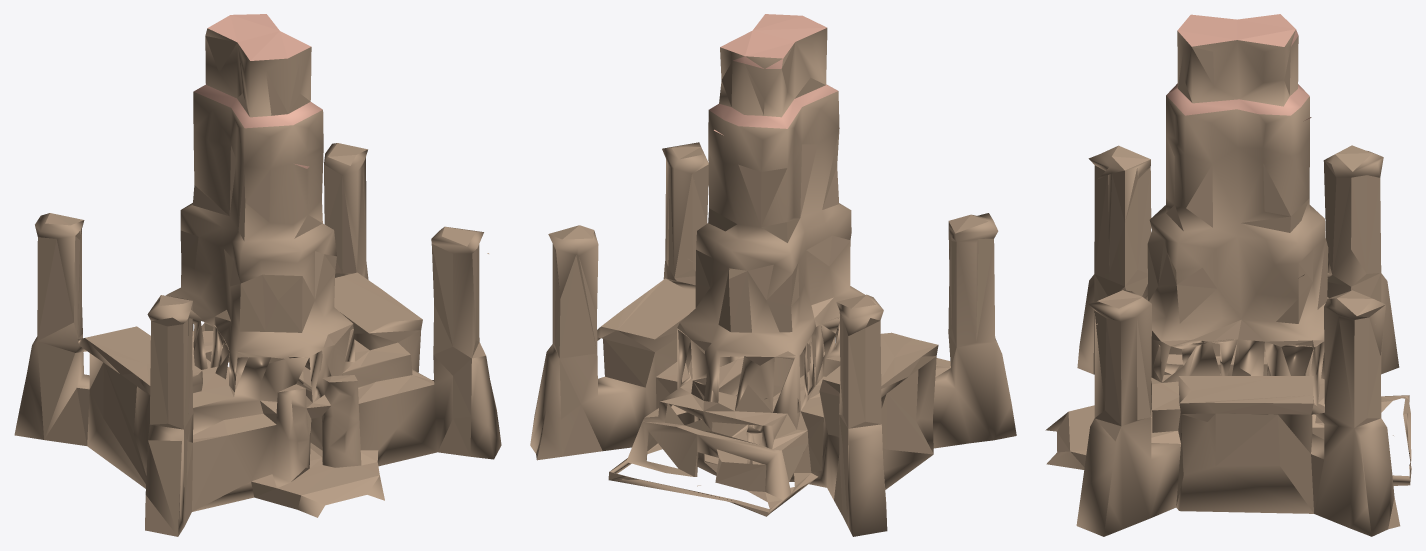
Rendered from templo_mediano_g.glb.
3 views of the same model, side by side, from view 1: azimuth 30°, elevation 25°; view 2: azimuth 150°, elevation 25°; view 3: azimuth 270°, elevation 25° (orthographic). The views are drawn at different scales.
Parts seen in each view (by area): view 1: templo_mediano_g; view 2: templo_mediano_g; view 3: templo_mediano_g.
Part boxes in pixels (x1=…): templo_mediano_g: x1=14, y1=14, x2=501, y2=536; templo_mediano_g: x1=530, y1=14, x2=1016, y2=536; templo_mediano_g: x1=1045, y1=14, x2=1411, y2=536.
Bounding box in the file's own units: 8.88 × 9.65 × 7.65.
